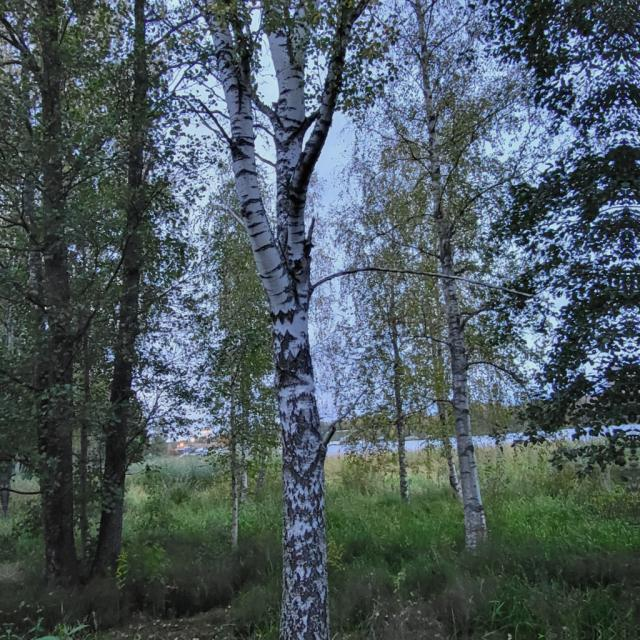Birch: (203, 0, 368, 640), (226, 270, 238, 547)
